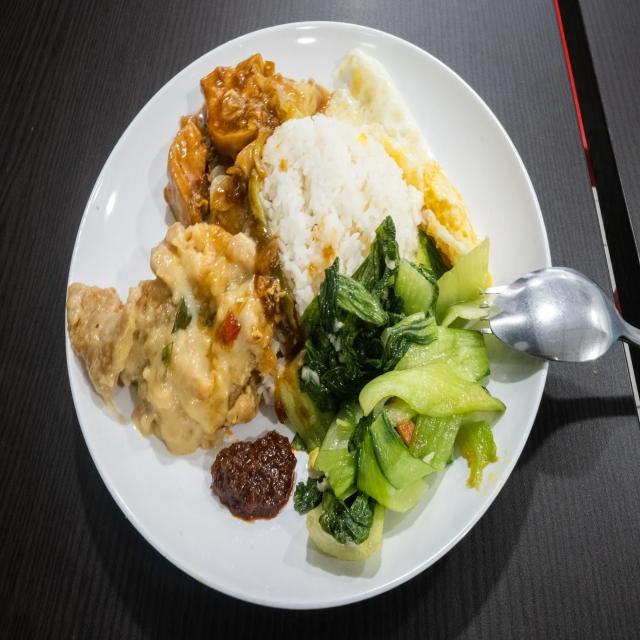Egg: (324, 49, 481, 265)
Fish: (66, 223, 286, 454)
Green veg: (283, 216, 505, 560)
Rice: (259, 114, 423, 314)
Tofu: (260, 115, 423, 314), (164, 54, 333, 230)
